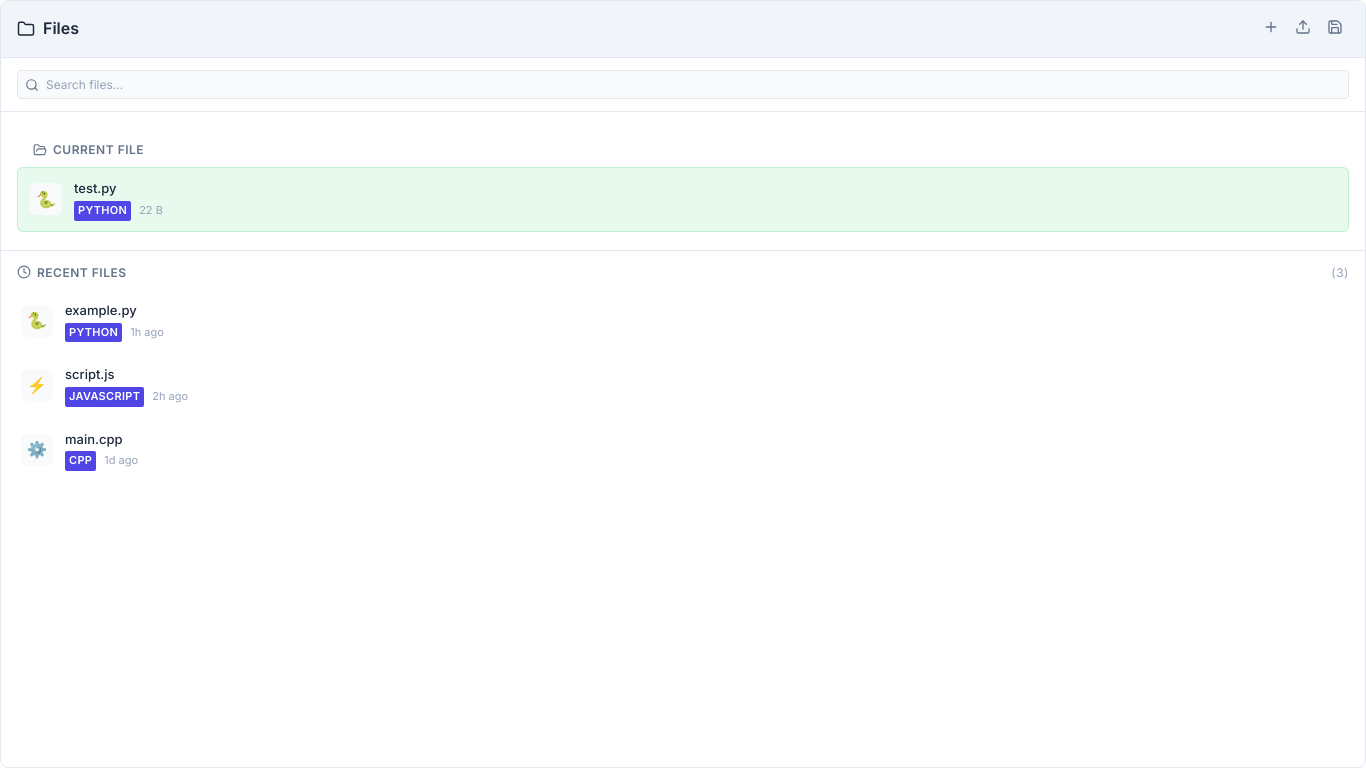
Scenario: FileManager Component › Search Functionality › should show empty state when no files match search
The width and height of the screenshot is (1366, 768).
Step 1. Type "nonexistent" into the field with placeholder "Search files..." → (683, 84), box 17,70 -> 1349,99
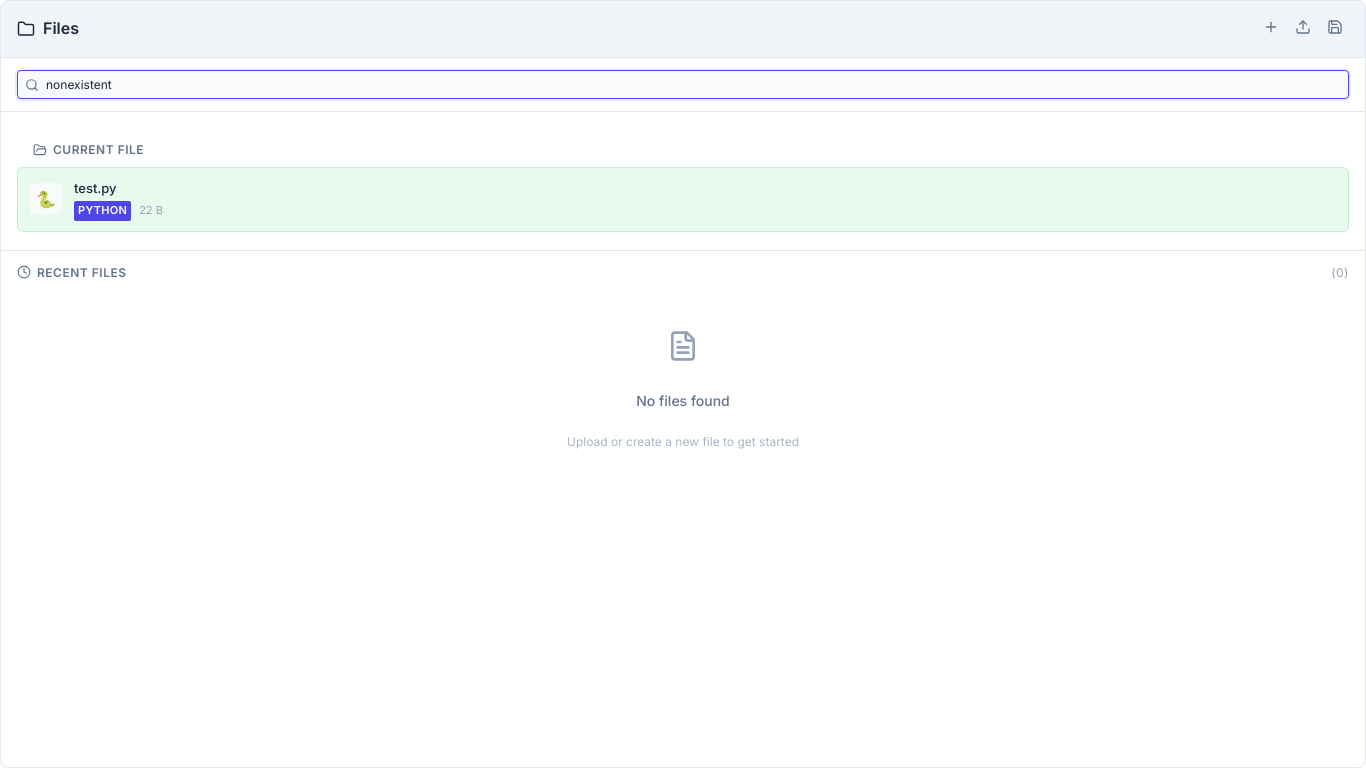
Now the text "No files found" is shown, box 636,390 -> 730,412
Now the text "Upload or create a new file to get started" is shown, box 567,432 -> 799,451
